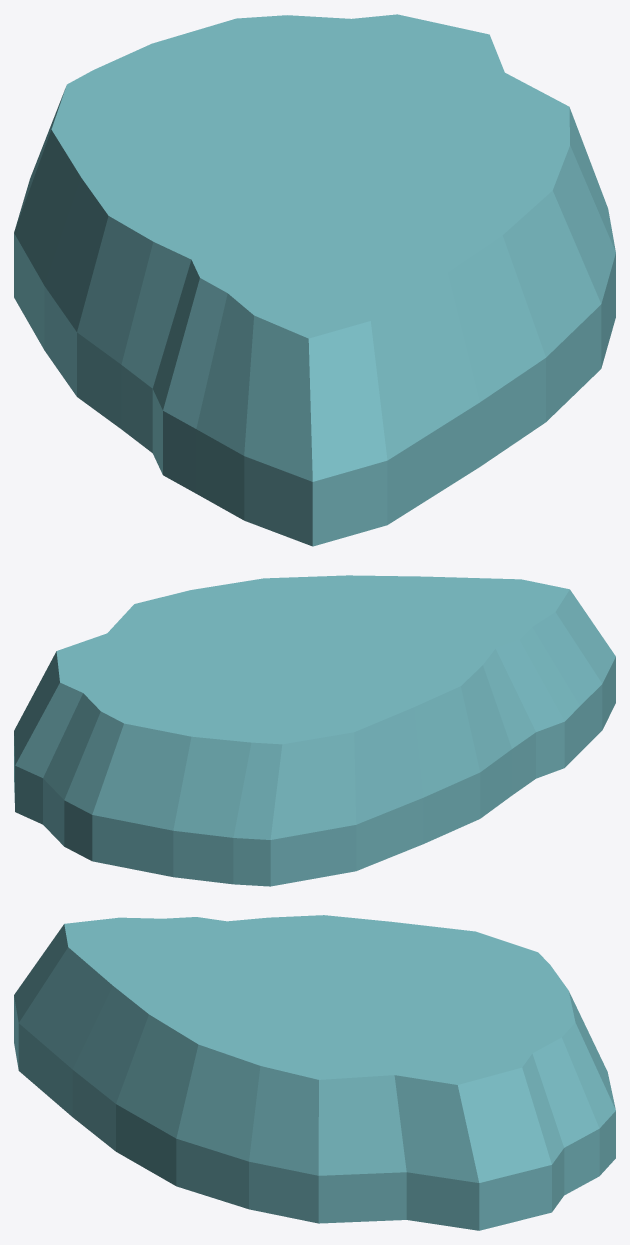
Rendered from BlueObstacle5.fbx.
3 views of the same model, one above another, from view 1: azimuth 30°, elevation 25°; view 2: azimuth 150°, elevation 25°; view 3: azimuth 270°, elevation 25° (orthographic). The views are drawn at different scales.
Parts seen in each view (by area): view 1: BlueObstacle5; view 2: BlueObstacle5; view 3: BlueObstacle5.
Part boxes in pixels (x1=…): BlueObstacle5: x1=14, y1=14, x2=615, y2=546; BlueObstacle5: x1=14, y1=575, x2=615, y2=886; BlueObstacle5: x1=14, y1=915, x2=615, y2=1230.
Size of the model in its own units: 5.13 by 1.53 by 6.45.
